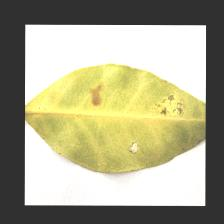canker: (90, 72, 188, 161)
